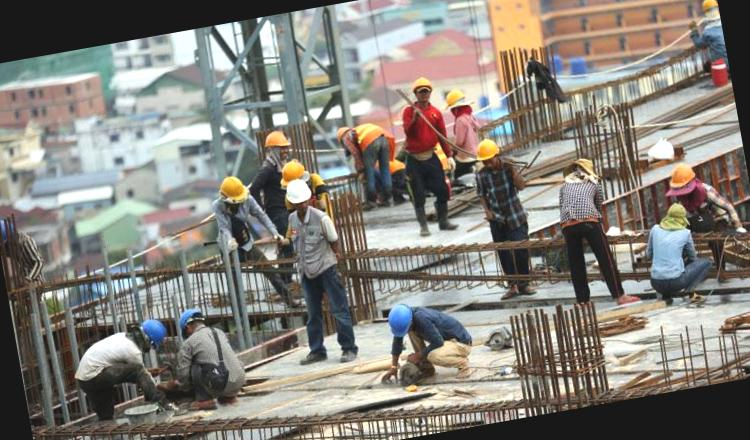helmet: (657, 158, 702, 199), (277, 173, 319, 214), (380, 300, 420, 340), (212, 174, 252, 212), (469, 130, 504, 166), (140, 308, 172, 344), (406, 74, 443, 102), (258, 124, 294, 152), (173, 306, 207, 333), (442, 83, 470, 113), (330, 122, 354, 147)
no_vest: (461, 154, 536, 241), (284, 201, 344, 292), (182, 324, 249, 396), (636, 218, 706, 286), (74, 332, 144, 394), (548, 174, 608, 242), (395, 101, 449, 171), (410, 292, 472, 348)
person: (259, 172, 364, 381), (456, 121, 554, 305), (388, 71, 476, 242), (543, 148, 631, 318), (61, 312, 181, 427), (372, 282, 497, 392), (166, 297, 266, 413), (634, 194, 720, 302), (326, 113, 402, 204)
